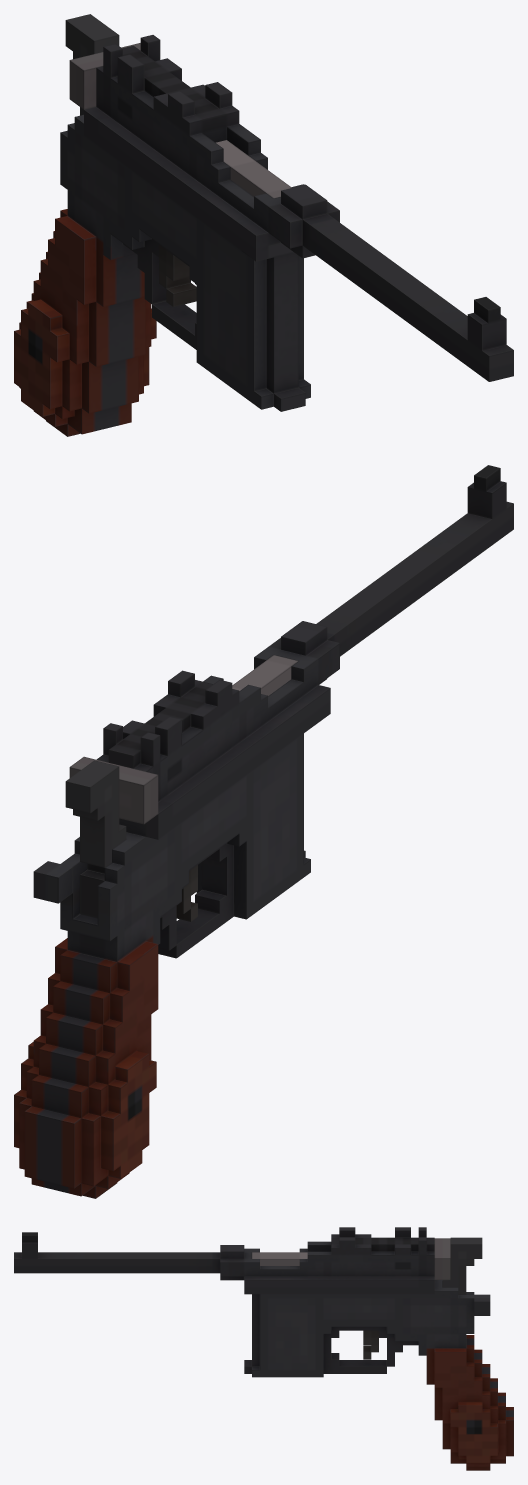
File: MAUSER.glb
3 views of the same model, one above another, from view 1: azimuth 30°, elevation 25°; view 2: azimuth 150°, elevation 25°; view 3: azimuth 270°, elevation 25° (orthographic). The views are drawn at different scales.
Parts seen in each view (by area): view 1: MAUSER_C96_BODY_P1, MAUSER_C96_BODY_P2, MAUSER_C96_BOLT, MAUSER_C96_TRIGGER; view 2: MAUSER_C96_BODY_P1, MAUSER_C96_BODY_P2, MAUSER_C96_TRIGGER, MAUSER_C96_BOLT; view 3: MAUSER_C96_BODY_P1, MAUSER_C96_BODY_P2, MAUSER_C96_TRIGGER, MAUSER_C96_BOLT.
Boxes of the visible parts, x1,y1,x2,y2 form: MAUSER_C96_BODY_P1: [14, 114, 310, 436]; MAUSER_C96_BODY_P2: [84, 35, 513, 381]; MAUSER_C96_BOLT: [69, 43, 291, 198]; MAUSER_C96_TRIGGER: [65, 14, 119, 115]; MAUSER_C96_BODY_P1: [14, 733, 310, 1198]; MAUSER_C96_BODY_P2: [96, 465, 513, 839]; MAUSER_C96_TRIGGER: [65, 760, 126, 918]; MAUSER_C96_BOLT: [69, 655, 297, 824]; MAUSER_C96_BODY_P1: [244, 1280, 513, 1470]; MAUSER_C96_BODY_P2: [14, 1227, 434, 1294]; MAUSER_C96_TRIGGER: [442, 1237, 482, 1294]; MAUSER_C96_BOLT: [252, 1238, 450, 1279].
Size of the model in its own units: 0.0788 by 0.315 by 0.6201.
1 material, 1 textured.
